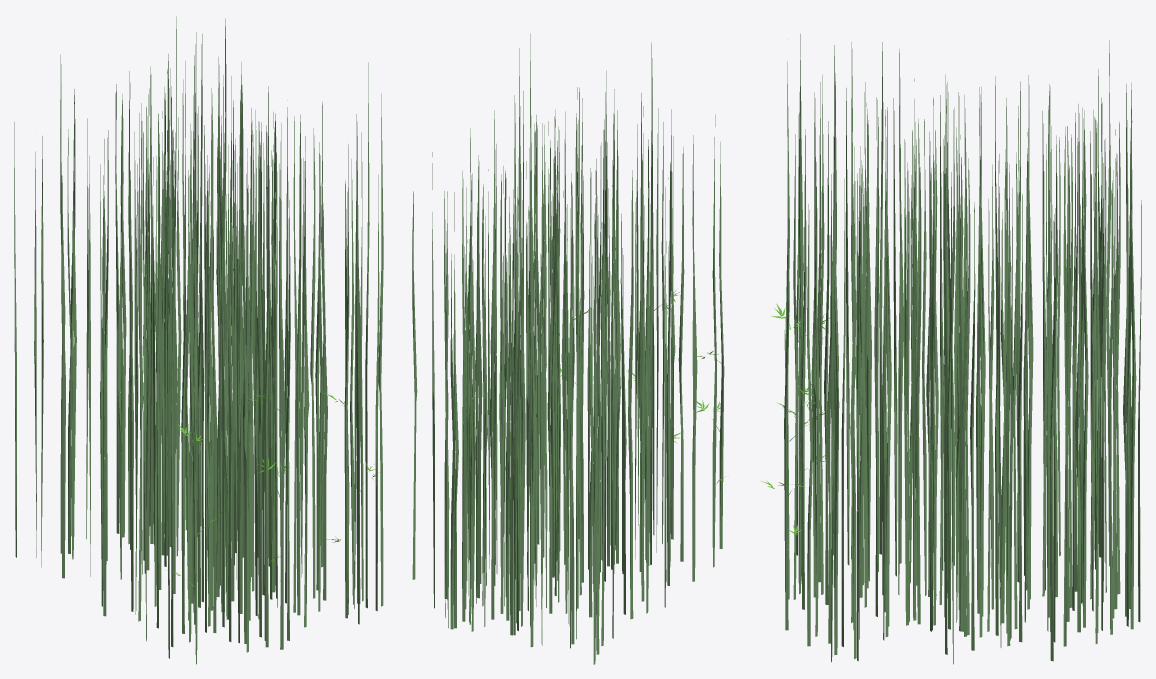
The model's file is bamboo_wall_fill.glb.
3 renders of one model, left to right at view 1: azimuth 30°, elevation 25°; view 2: azimuth 150°, elevation 25°; view 3: azimuth 270°, elevation 25°, orthographic. The views are drawn at different scales.
Visible parts, largest first — view 1: bamboo_wall_fill.001; view 2: bamboo_wall_fill.001; view 3: bamboo_wall_fill.001.
Boxes of the visible parts, x1,y1,x2,y2 form: bamboo_wall_fill.001: [14, 16, 383, 664]; bamboo_wall_fill.001: [412, 33, 724, 664]; bamboo_wall_fill.001: [784, 34, 1141, 664].
Size of the model in its own units: 11.1 by 24.98 by 14.76.
